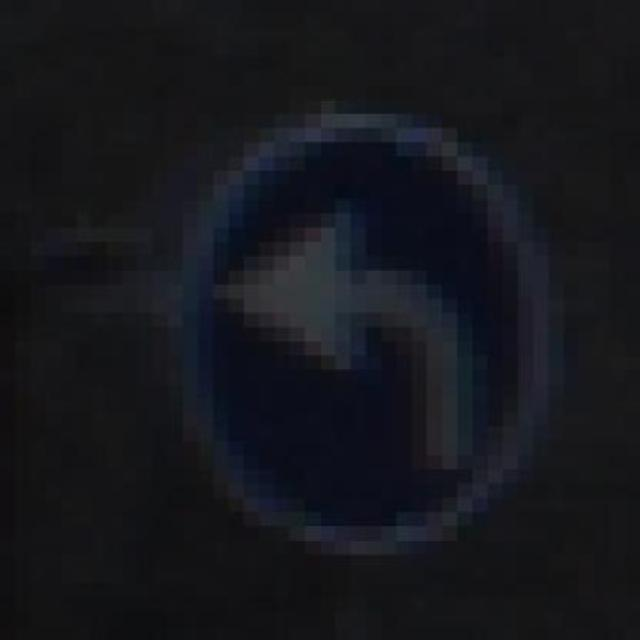Turn left ahead: (152, 85, 565, 569)
